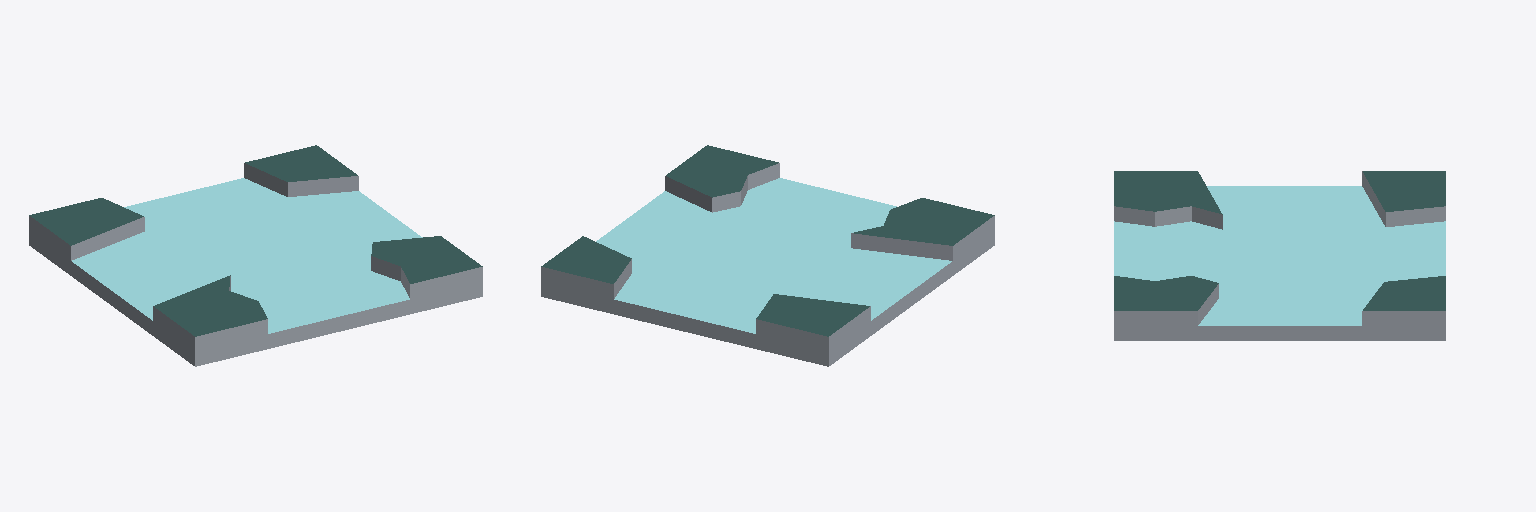
3 renders of one model, left to right at view 1: azimuth 30°, elevation 25°; view 2: azimuth 150°, elevation 25°; view 3: azimuth 270°, elevation 25°, orthographic.
Visible parts, largest first — view 1: Mesh1 Plate_River_Dirt Model; view 2: Mesh1 Plate_River_Dirt Model; view 3: Mesh1 Plate_River_Dirt Model.
Part boxes in pixels (x1,y1,x2,y2): Mesh1 Plate_River_Dirt Model: (29, 145, 482, 366); Mesh1 Plate_River_Dirt Model: (541, 145, 994, 366); Mesh1 Plate_River_Dirt Model: (1114, 171, 1445, 340).
Size of the model in its own units: 1 by 0.1 by 1.